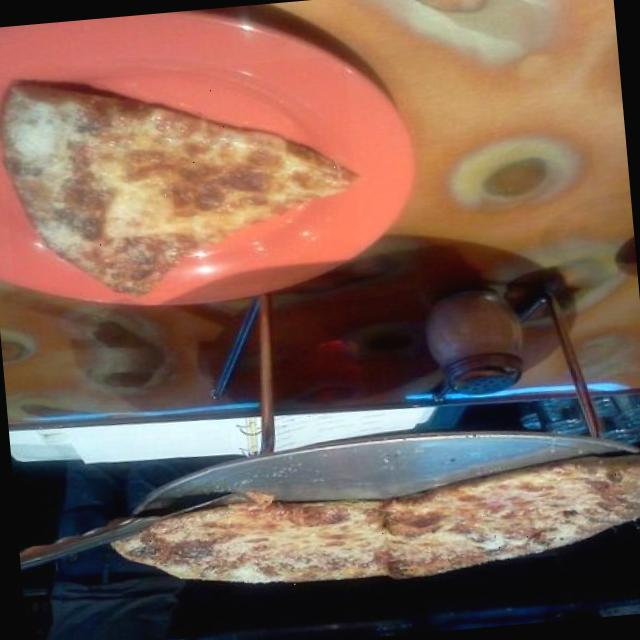cheese: (224, 520, 382, 561), (101, 168, 176, 238), (484, 474, 596, 517), (404, 534, 466, 561)
pizza: (0, 83, 354, 293), (113, 455, 640, 583)
